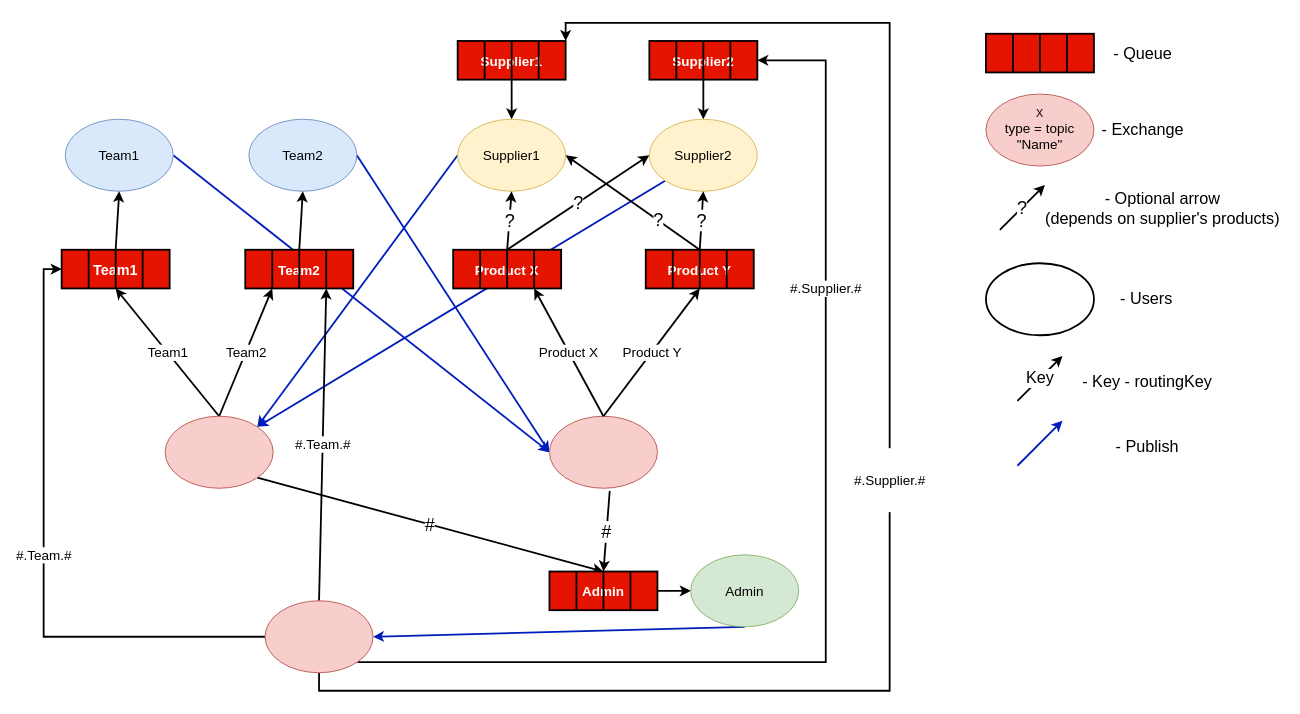
Some shapes in this 1300 by 714 pixel diagram are drawn without their labels. The centre of each missing label's shape, as x and y in pixels:
X type = topic "Admin": pixel 318 636
X type = topic "Suppliers": pixel 603 451
X type = topic "Teams": pixel 218 451
